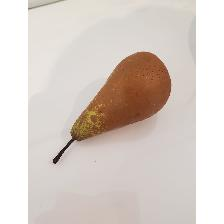Birne: (47, 38, 176, 170)
